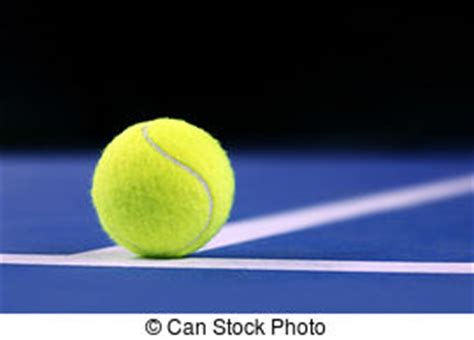tennis_ball: (91, 115, 236, 257)
